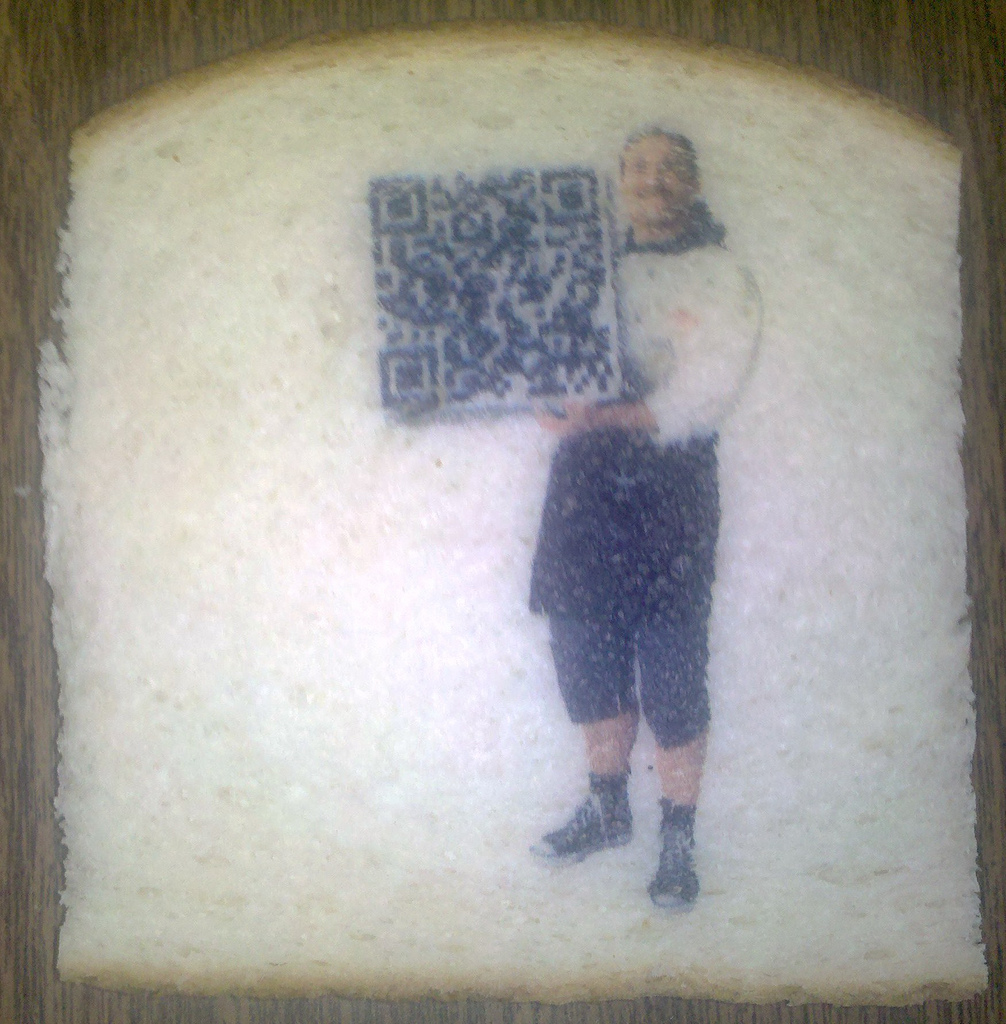QR-CODE: (369, 166, 614, 410)
